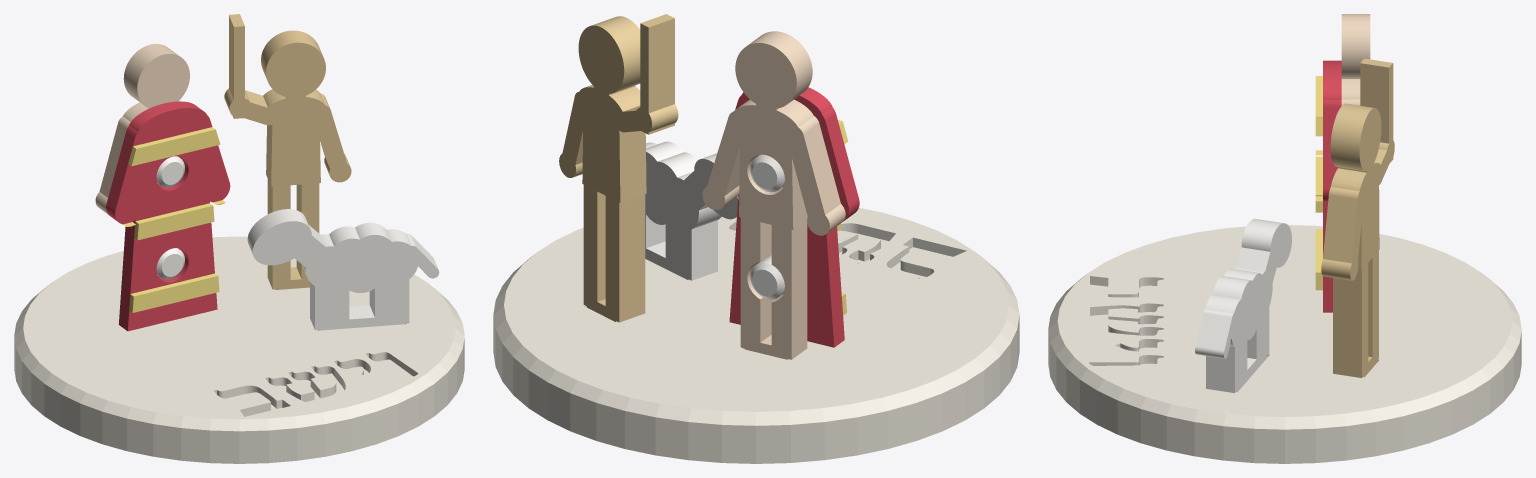
File: vayeshev.glb
3 views of the same model, side by side, from view 1: azimuth 30°, elevation 25°; view 2: azimuth 150°, elevation 25°; view 3: azimuth 270°, elevation 25° (orthographic). The views are drawn at different scales.
Visible parts, largest first — view 1: stage, coat, brother, sheep, stripes, yosef, pin-2, pin-1; view 2: stage, yosef, brother, sheep, coat, pin-1, pin-2; view 3: stage, brother, sheep, coat, yosef, stripes.
Boxes of the visible parts, <box> form: stage: <box>14,236,464,463</box>; coat: <box>106,101,230,331</box>; brother: <box>224,14,351,289</box>; sheep: <box>247,209,439,330</box>; stripes: <box>123,127,225,312</box>; yosef: <box>95,44,189,214</box>; pin-2: <box>156,156,184,187</box>; pin-1: <box>156,248,184,279</box>; stage: <box>493,208,1019,463</box>; yosef: <box>702,31,845,359</box>; brother: <box>559,14,678,322</box>; sheep: <box>645,141,738,280</box>; coat: <box>729,87,859,347</box>; pin-1: <box>750,254,784,299</box>; pin-2: <box>750,154,784,192</box>; stage: <box>1048,225,1521,463</box>; brother: <box>1321,58,1394,377</box>; sheep: <box>1195,218,1291,393</box>; coat: <box>1323,60,1341,312</box>; yosef: <box>1341,14,1370,105</box>; stripes: <box>1315,76,1322,290</box>.
Bounding box in the file's own units: 40 × 30 × 40.
